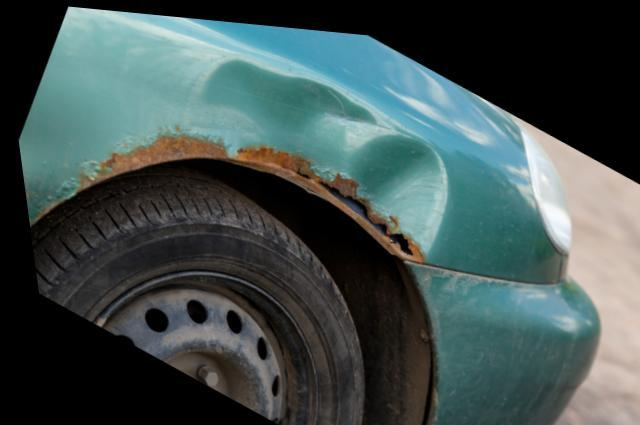crack: (291, 164, 411, 249)
dent: (188, 54, 444, 249)
scratch: (81, 127, 226, 188)
